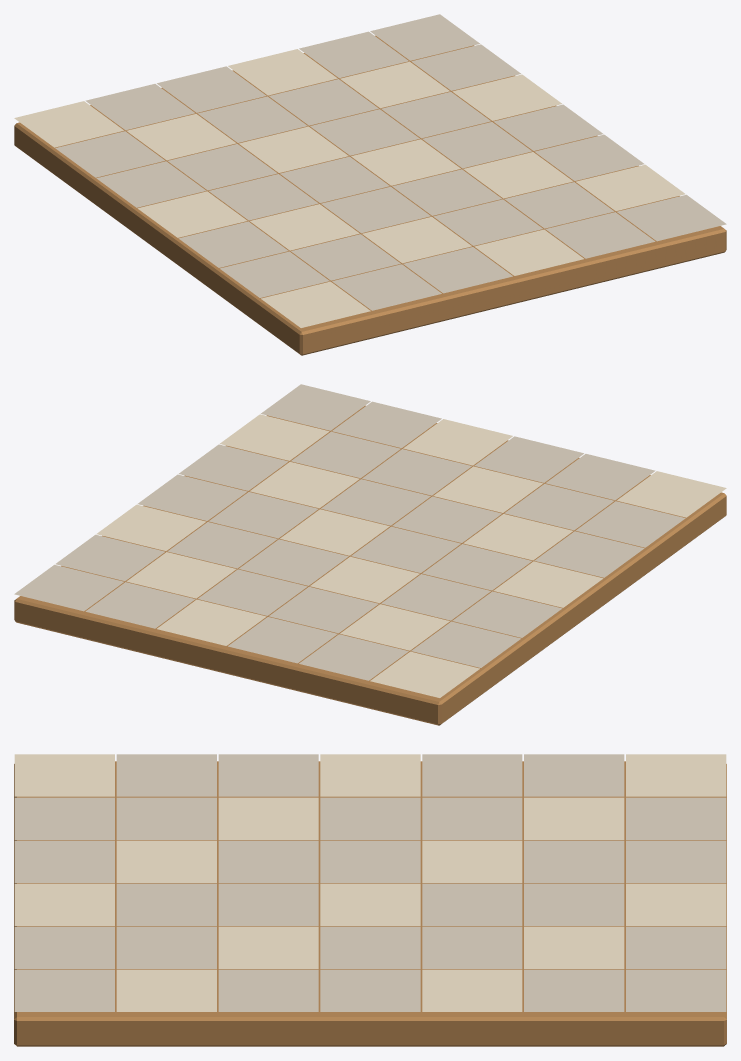
Rendered from floor-module.glb.
3 views of the same model, one above another, from view 1: azimuth 30°, elevation 25°; view 2: azimuth 150°, elevation 25°; view 3: azimuth 270°, elevation 25° (orthographic). The views are drawn at different scales.
Visible parts, largest first — view 1: floor_module; view 2: floor_module; view 3: floor_module.
Part boxes in pixels (x1=…): floor_module: x1=14, y1=14, x2=726, y2=355; floor_module: x1=14, y1=384, x2=726, y2=725; floor_module: x1=14, y1=754, x2=726, y2=1046.
Size of the model in its own units: 3 by 0.192 by 3.5.
